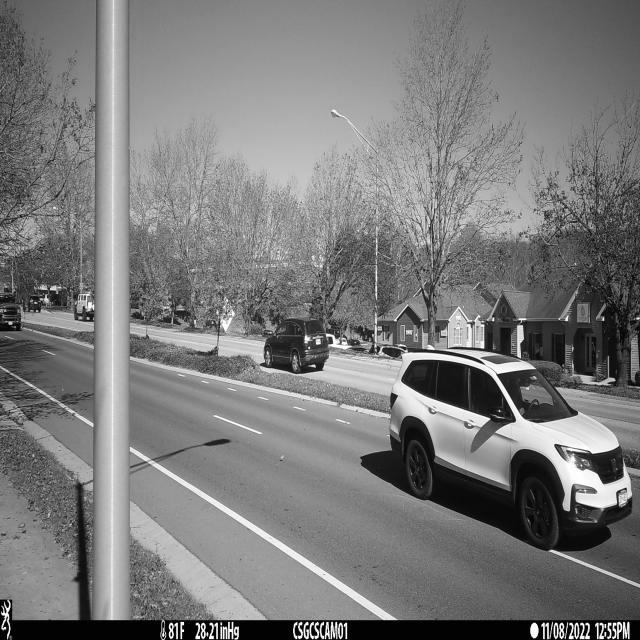SUV: (390, 343, 633, 551)
